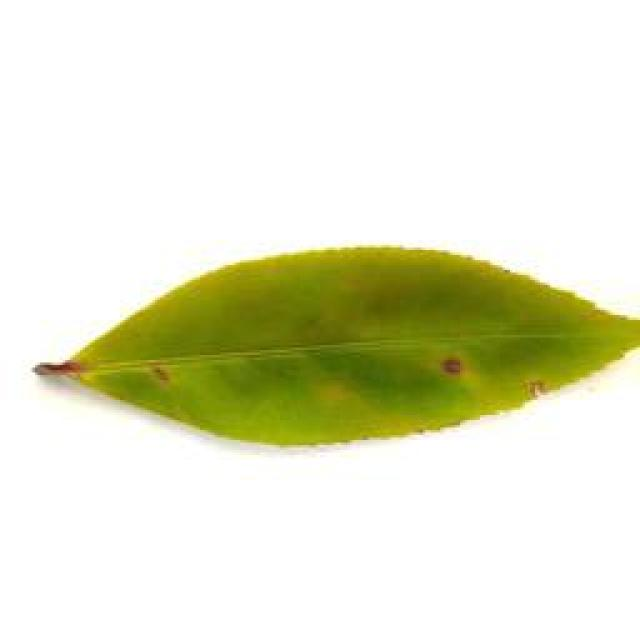Helopeltis: (35, 239, 640, 458)
